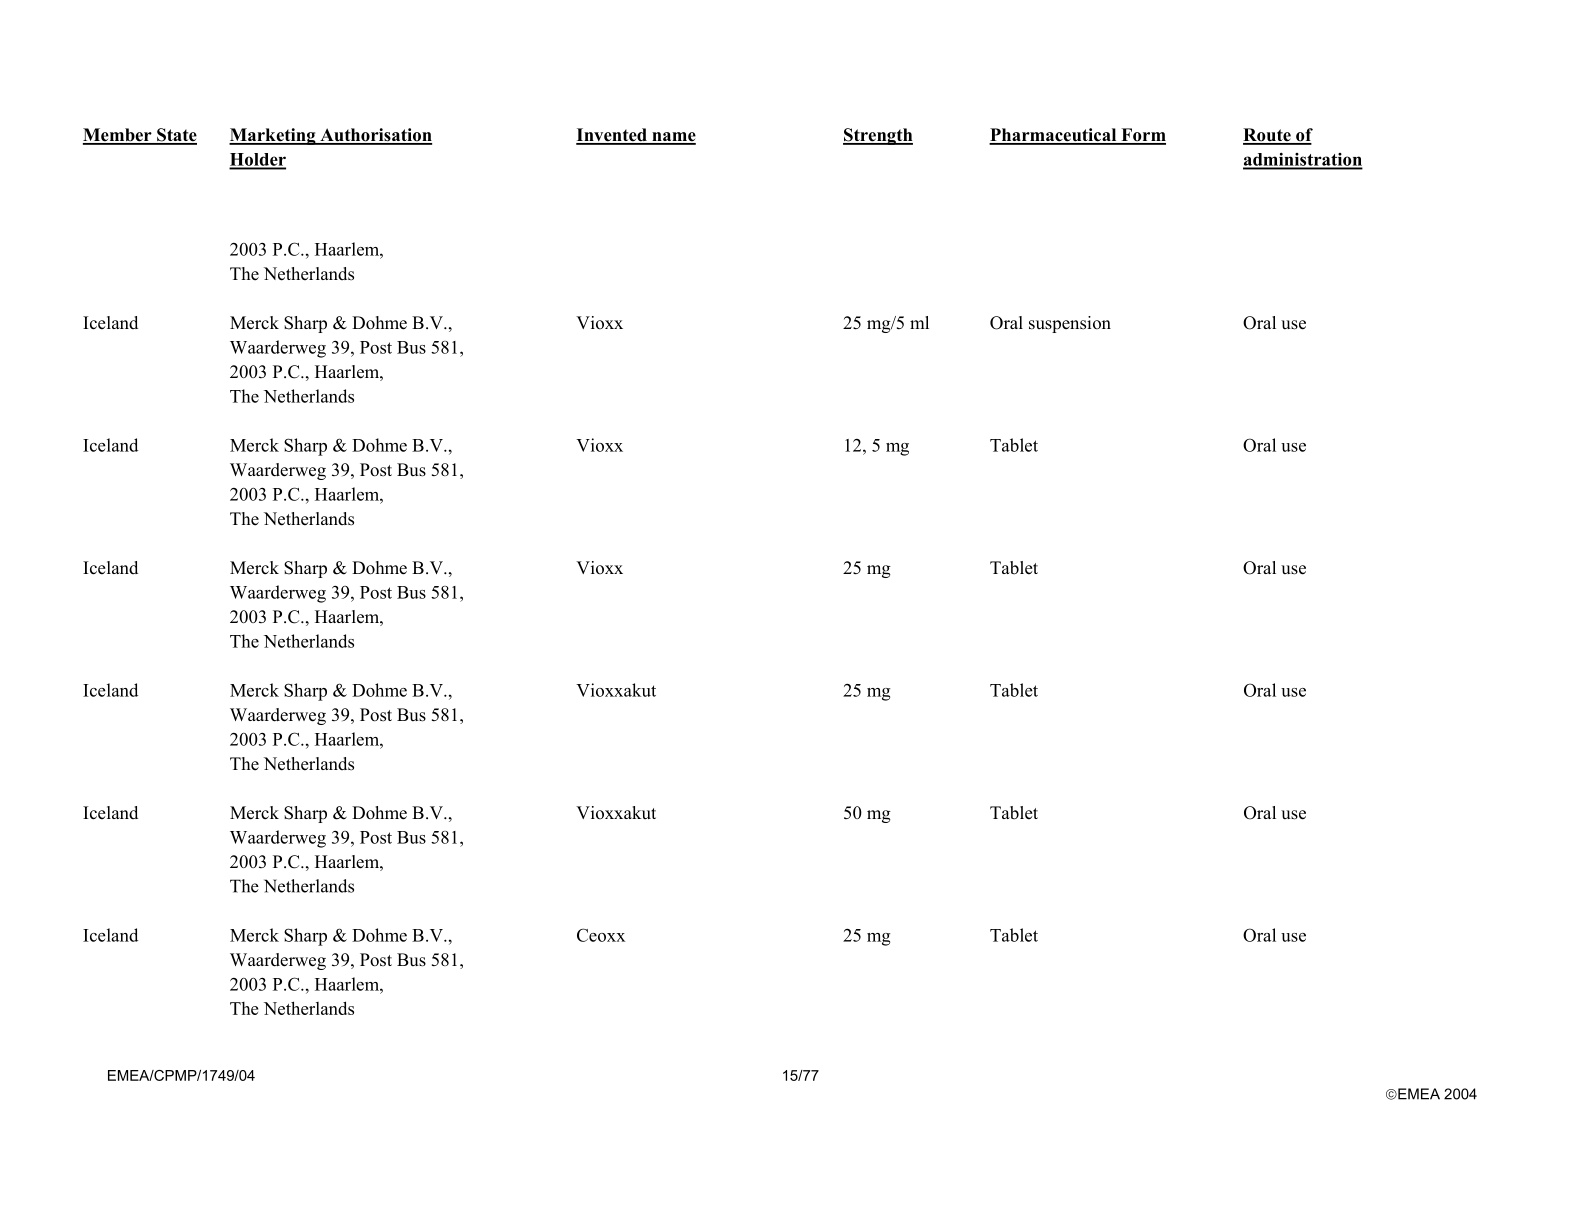nolines: (78, 123, 1365, 1017)
